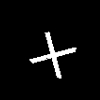single_crochet: (30, 32, 75, 77)
